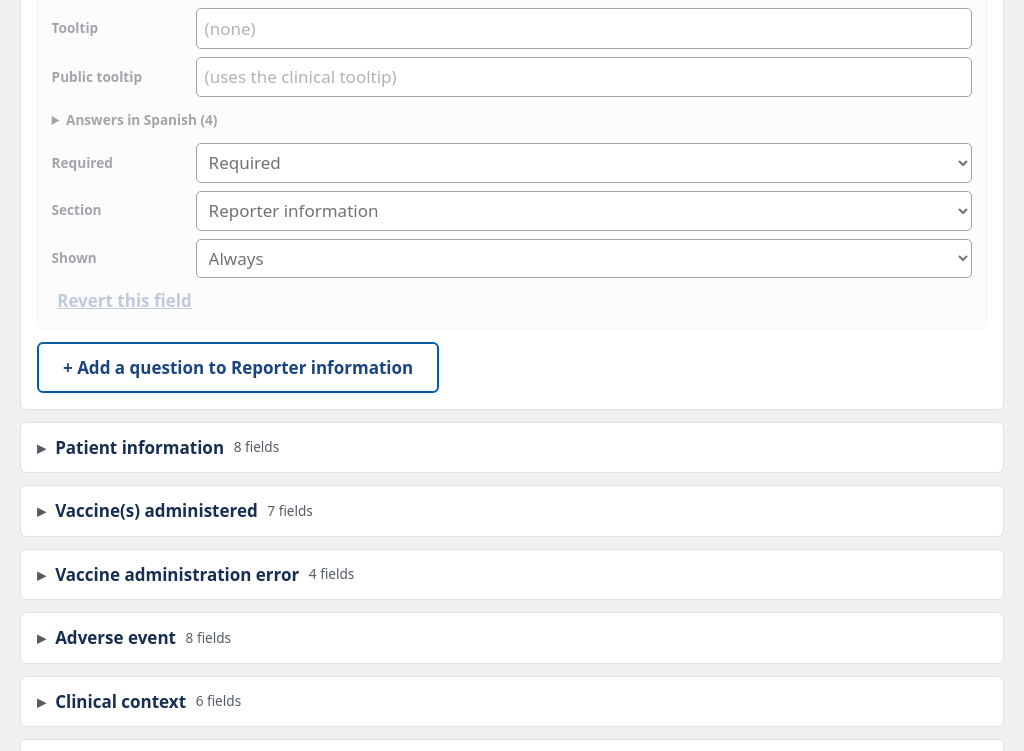
Test: accessibility: admin configuration surface › has no violations with the add-question form open
The image size is (1024, 751).
(page scrolled)
Click the button "+ Add a question to Reporter information": click(238, 368) [37,342,439,393]
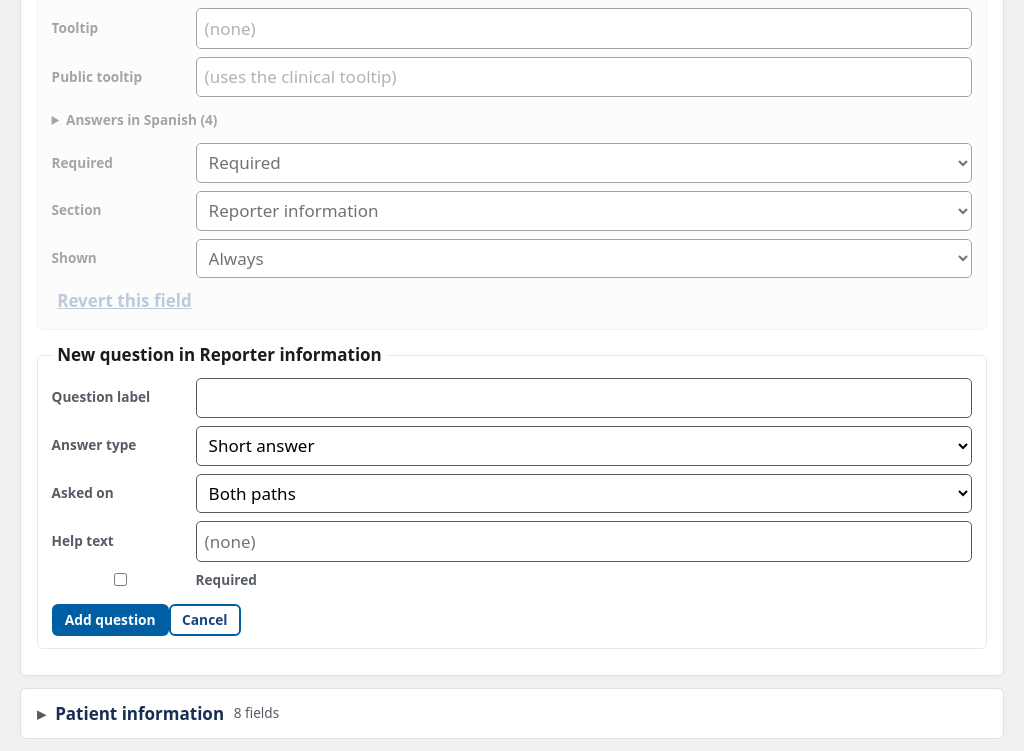
Expected: the field named "label for the new question in reporter" is shown, [196,378,972,418]
